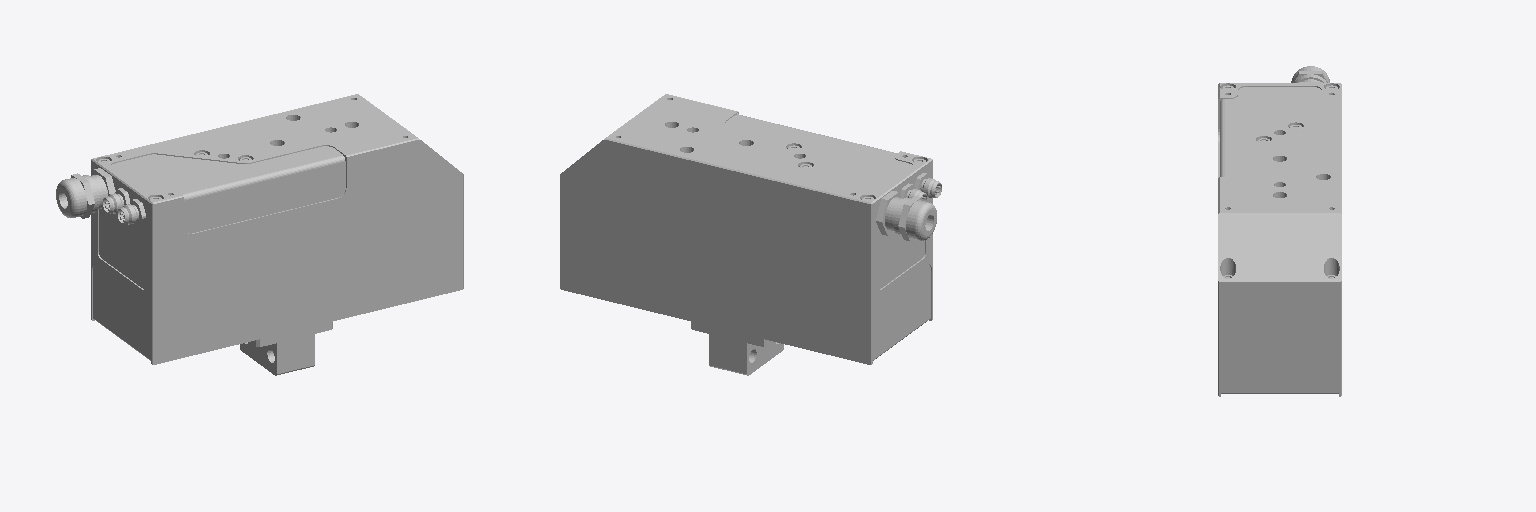
Rendered from wsg50_110 v1.obj.
3 renders of one model, left to right at view 1: azimuth 30°, elevation 25°; view 2: azimuth 150°, elevation 25°; view 3: azimuth 270°, elevation 25°, orthographic.
Visible parts, largest first — view 1: Body1, Body1:1, Body1:4, Body1:5, Body1:3; view 2: Body1, Body1:1, Body1:4, Body1:5; view 3: Body1.
Boxes of the visible parts, x1,y1,x2,y2 form: Body1: [91, 94, 463, 364]; Body1:1: [56, 168, 115, 218]; Body1:4: [240, 331, 295, 375]; Body1:5: [295, 322, 332, 370]; Body1:3: [117, 199, 145, 225]; Body1: [560, 94, 932, 364]; Body1:1: [876, 191, 936, 240]; Body1:4: [728, 331, 783, 375]; Body1:5: [691, 322, 728, 370]; Body1: [1218, 83, 1341, 396].
Size of the model in its own units: 166 by 96.5 by 50.